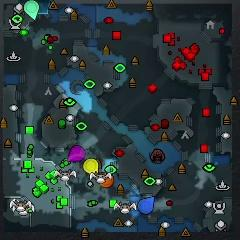p1: (138, 196, 155, 214)
p2: (24, 1, 39, 20)
p3: (67, 145, 85, 163)
p4: (83, 159, 98, 175)
p5: (99, 172, 115, 188)
